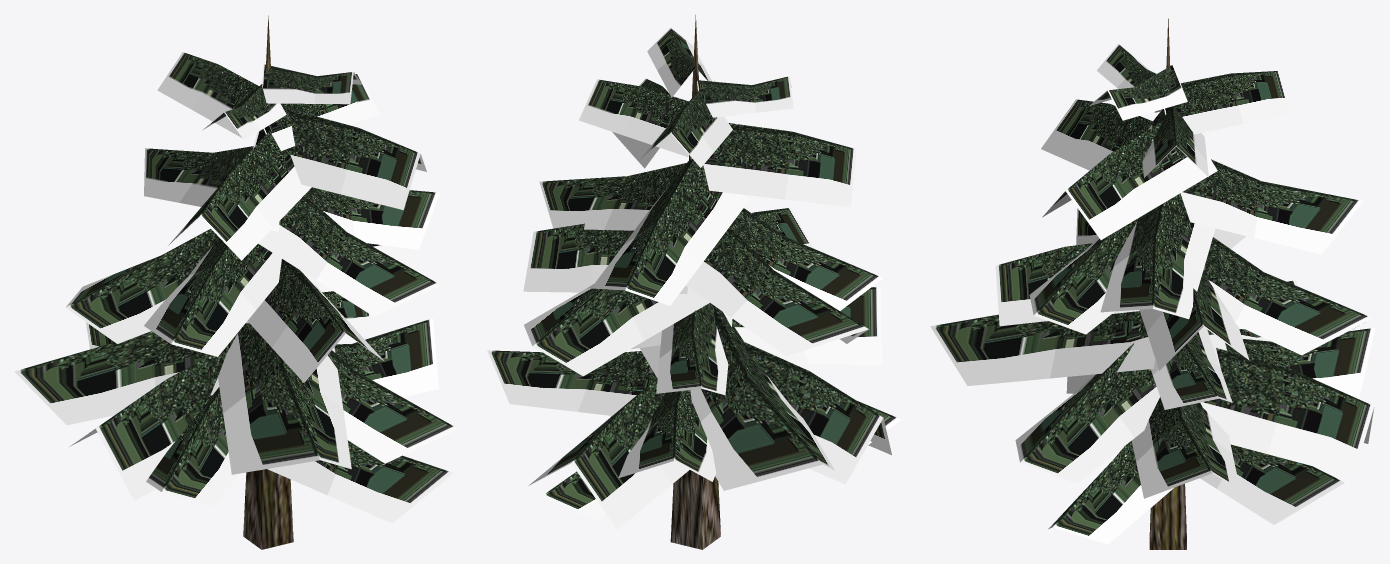
Rendered from mdl_Pinetree_updated.fbx.
3 renders of one model, left to right at view 1: azimuth 30°, elevation 25°; view 2: azimuth 150°, elevation 25°; view 3: azimuth 270°, elevation 25°, orthographic.
Visible parts, largest first — view 1: Tree.010, Tree.001; view 2: Tree.010, Tree.001; view 3: Tree.010, Tree.001.
Part boxes in pixels (x1,y1,x2,y2): Tree.010: (14,52,458,523); Tree.001: (243,15,293,549); Tree.010: (487,28,901,529); Tree.001: (670,15,720,549); Tree.010: (930,44,1375,544); Tree.001: (1149,18,1186,549).
Bounding box in the file's own units: 513 × 683 × 522.
